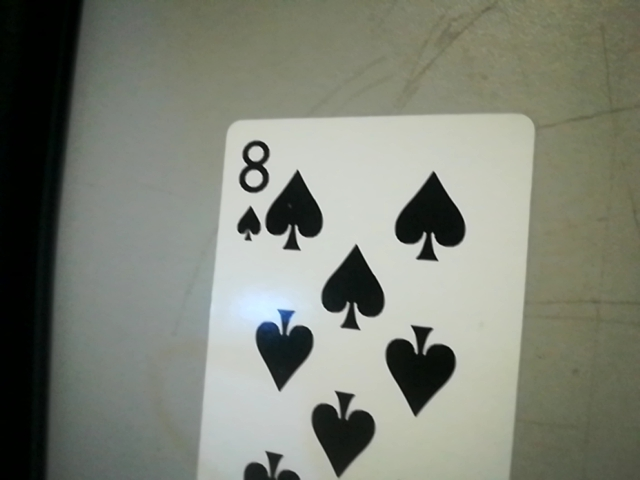ht 8: (222, 129, 279, 248)
